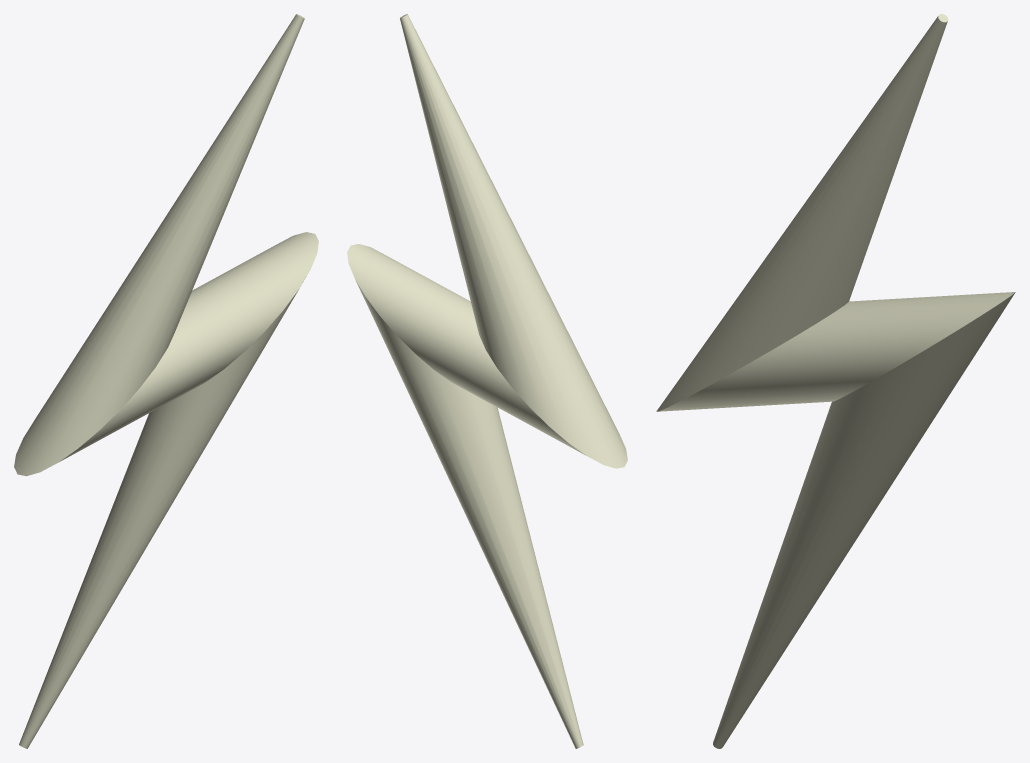
File: bolt.fbx
The picture shows the model from 3 angles, left to right: view 1: azimuth 30°, elevation 25°; view 2: azimuth 150°, elevation 25°; view 3: azimuth 330°, elevation 25°; orthographic projection. The views are drawn at different scales.
Visible parts, largest first — view 1: Model; view 2: Model; view 3: Model.
Part boxes in pixels (bbox=[...]): Model: bbox=[14, 14, 318, 748]; Model: bbox=[347, 14, 627, 748]; Model: bbox=[656, 14, 1015, 748].
Bounding box in the file's own units: 70.89 × 161 × 20.
